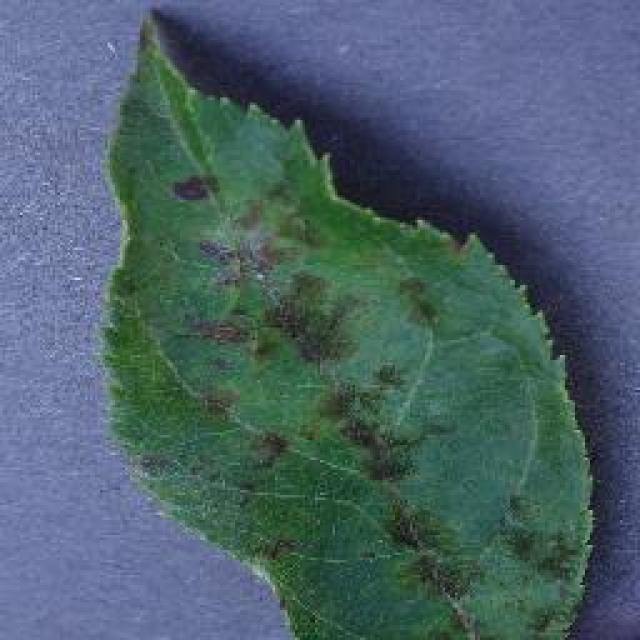apple scab disease: (95, 8, 600, 638)
